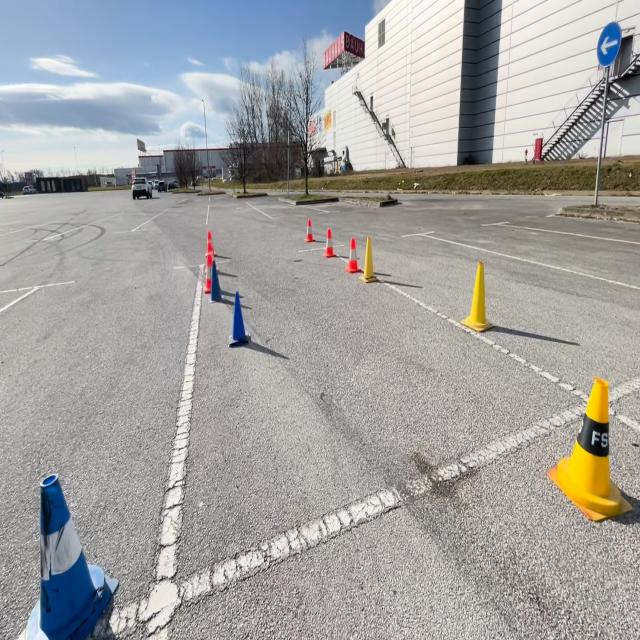blue_cone: (13, 474, 122, 639), (228, 292, 250, 349), (207, 260, 225, 304)
orange_cone: (345, 237, 361, 273), (323, 228, 337, 258), (204, 254, 213, 293), (205, 230, 216, 257), (305, 218, 315, 242), (207, 242, 214, 260)
yellow_cone: (549, 377, 632, 523), (461, 259, 495, 333), (359, 237, 380, 285)
